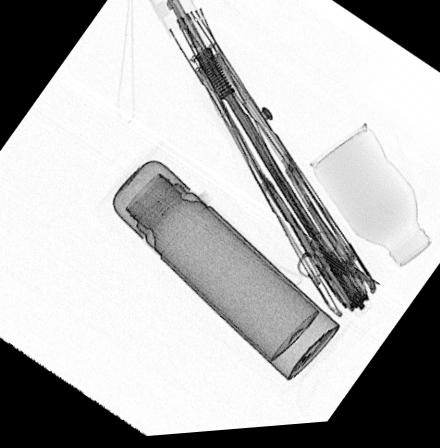Scissors: (294, 235, 384, 295)
